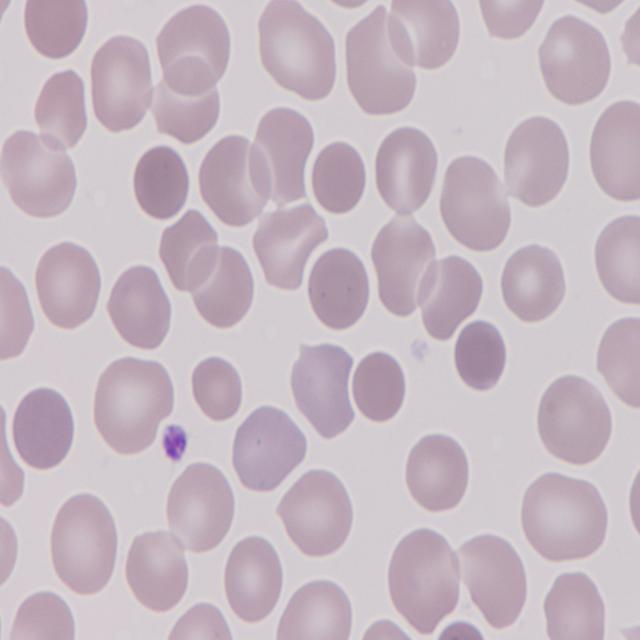RBC: (256, 2, 342, 106), (522, 470, 612, 568), (384, 525, 464, 632), (94, 358, 177, 456), (536, 11, 616, 110), (498, 108, 575, 210), (48, 490, 120, 598), (534, 372, 614, 469), (344, 9, 417, 115), (438, 151, 512, 254), (153, 2, 234, 96), (368, 216, 438, 323), (276, 464, 354, 560), (1, 130, 78, 226), (197, 133, 274, 229), (461, 535, 534, 634), (163, 457, 237, 552), (30, 238, 104, 332), (90, 32, 154, 138), (371, 125, 443, 218), (222, 532, 290, 628), (232, 404, 306, 492), (418, 252, 490, 342), (190, 238, 260, 330), (104, 262, 176, 351), (289, 342, 356, 436), (497, 239, 569, 324), (402, 432, 471, 520), (124, 530, 192, 618), (154, 210, 222, 296), (388, 0, 464, 76), (586, 100, 640, 203), (275, 577, 356, 640), (539, 568, 609, 640), (32, 63, 88, 152), (592, 210, 640, 309), (594, 314, 640, 408), (188, 352, 245, 422), (0, 258, 36, 367), (10, 588, 76, 640), (470, 0, 551, 42), (168, 602, 240, 640), (0, 498, 27, 594)
Spherocyte: (303, 241, 373, 333), (10, 386, 80, 470), (130, 140, 193, 224), (307, 138, 370, 220), (21, 0, 92, 68), (352, 346, 412, 424), (454, 318, 510, 394)
